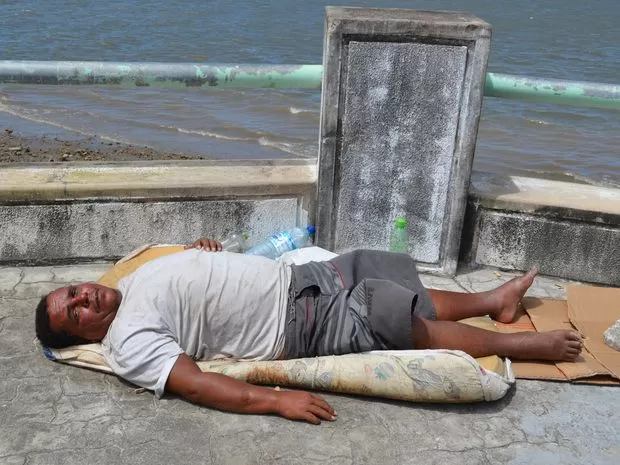Humano: (34, 229, 592, 433)
